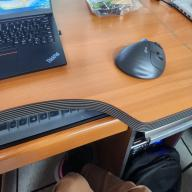mouse: (115, 38, 166, 80)
